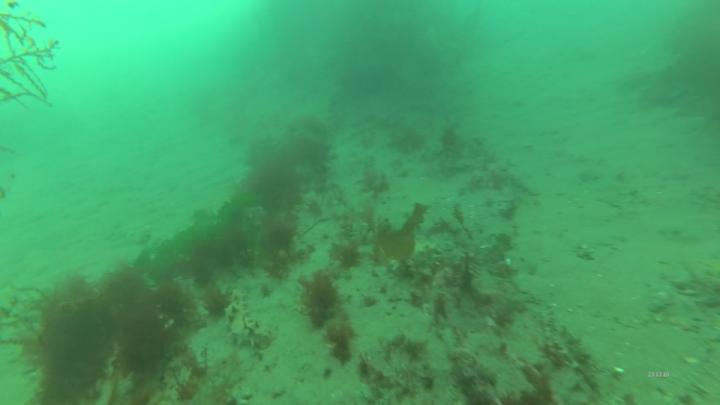holothurian: (228, 288, 280, 355)
waterweeds: (140, 124, 337, 284), (18, 274, 207, 405), (299, 272, 365, 362)
